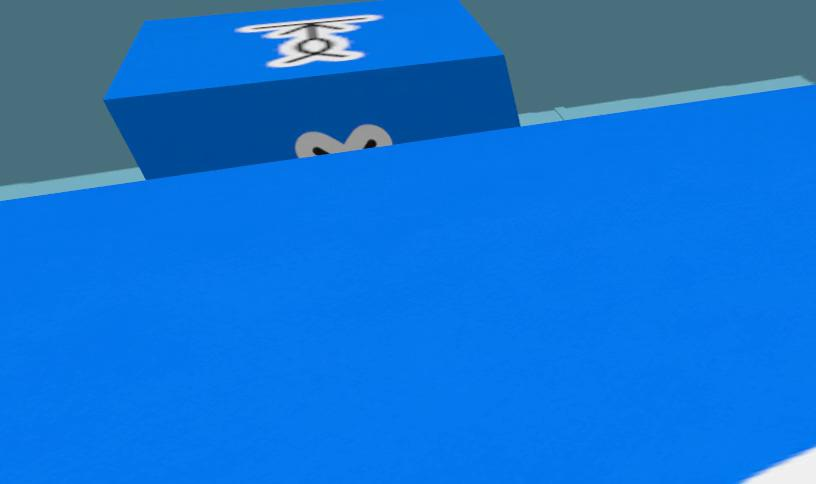KFS_REAL: (104, 0, 518, 180), (237, 14, 381, 67)
